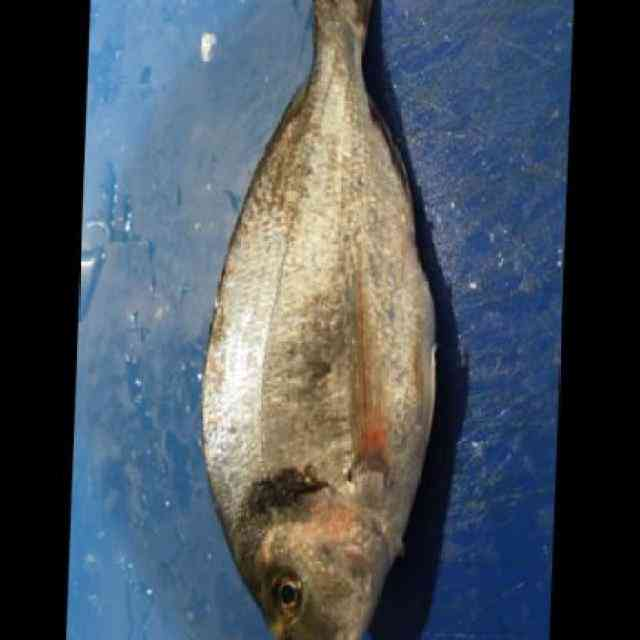Healthy Fish: (197, 0, 447, 640)
